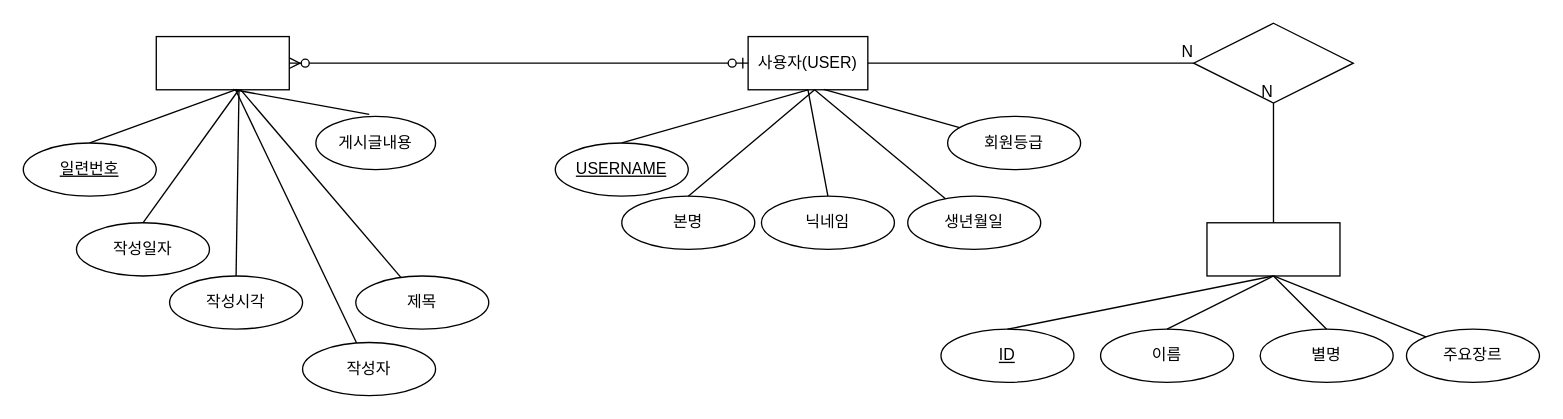
Image size: 1563x419. Some labels were removed from this diagram. The centre of each missing label's shape, as x and y in pixels:
"Artist" goes at (x=1273, y=248).
"게시판" goes at (x=222, y=62).
"좋아하는 가수" goes at (x=1272, y=62).
